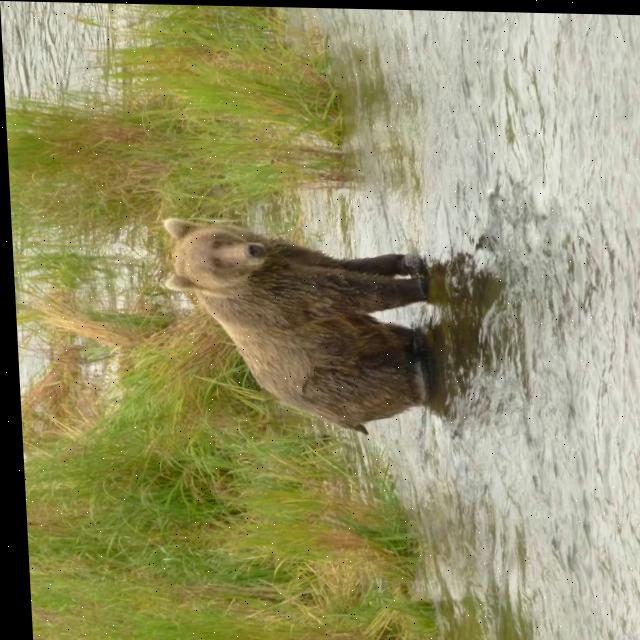bear face: (158, 215, 419, 434)
